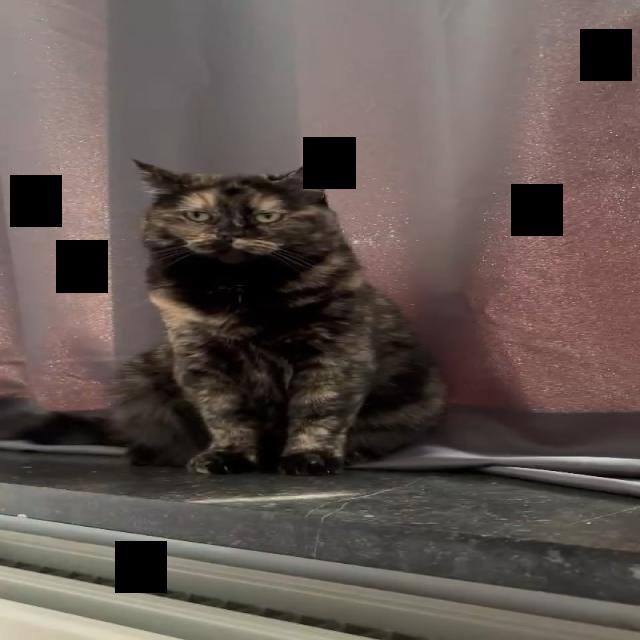authorized: (105, 156, 448, 476)
